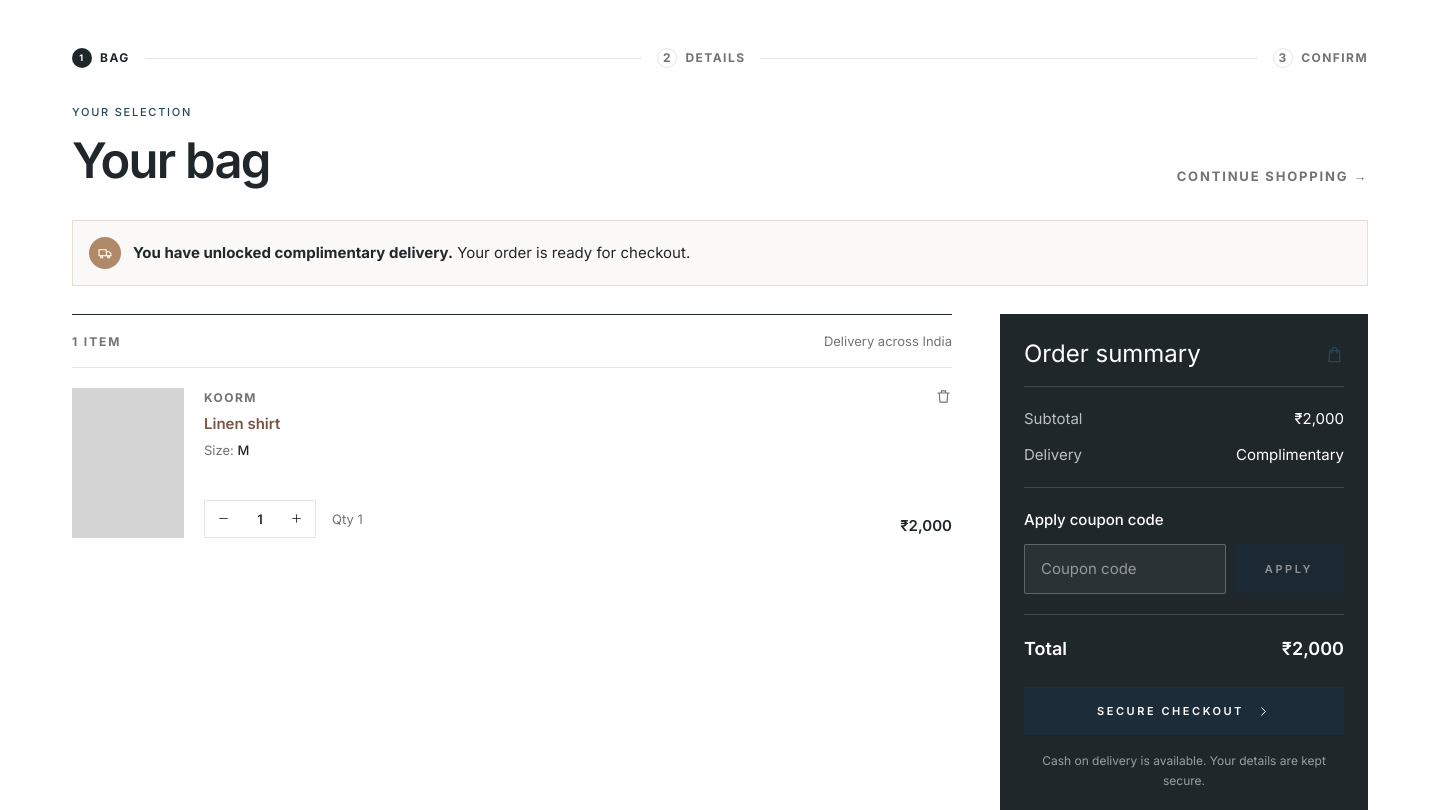
Test case: applies a normalized coupon, updates the total, and can remove the discount
The image size is (1440, 810).
Expected: the button "Apply" is disabled, x1=1234 y1=544 x2=1344 y2=594
Type " save20 " into the field labelled "Apply coupon code" at (1125, 569), box x1=1024 y1=544 x2=1226 y2=594
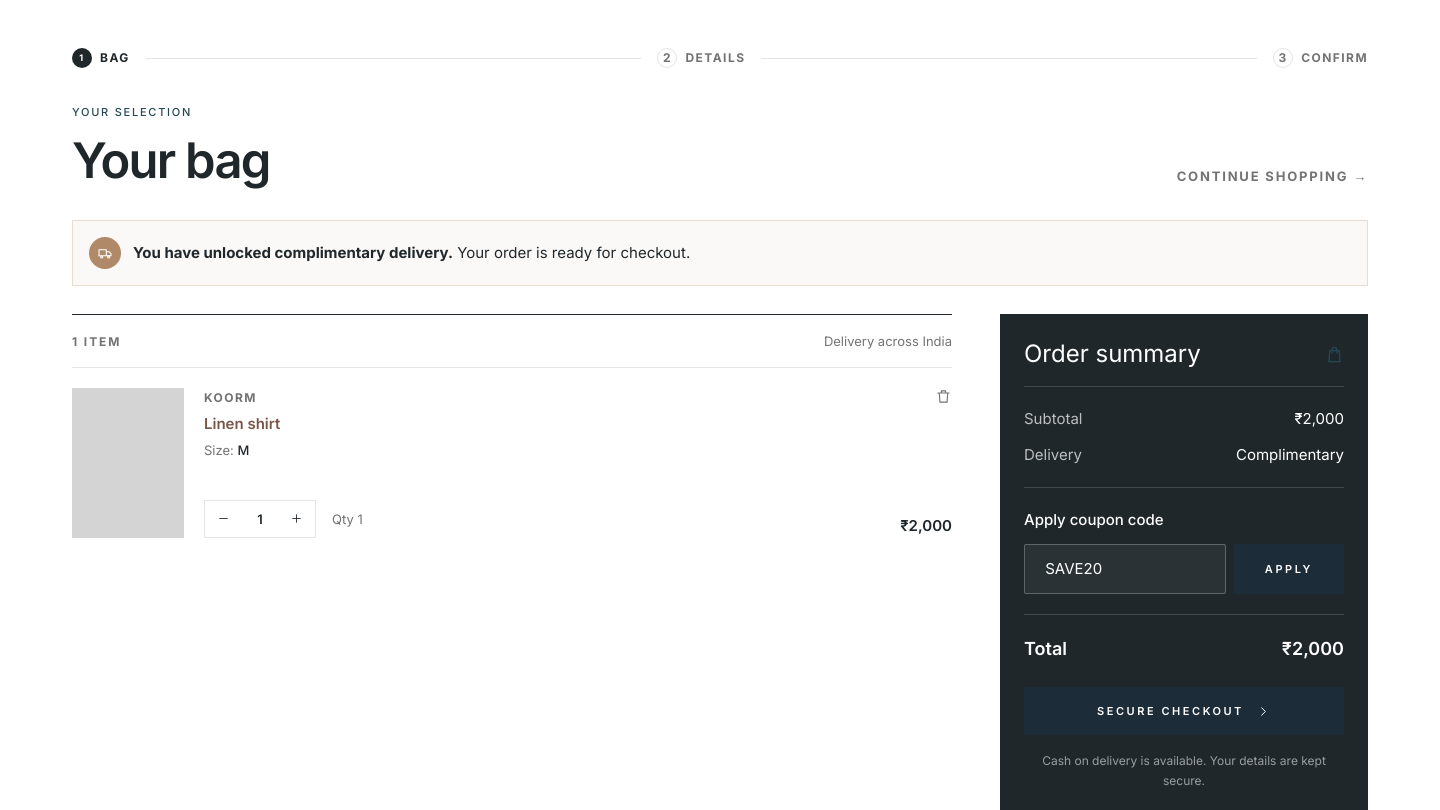
Submit the form "Apply coupon code", box x1=1024 y1=487 x2=1344 y2=614
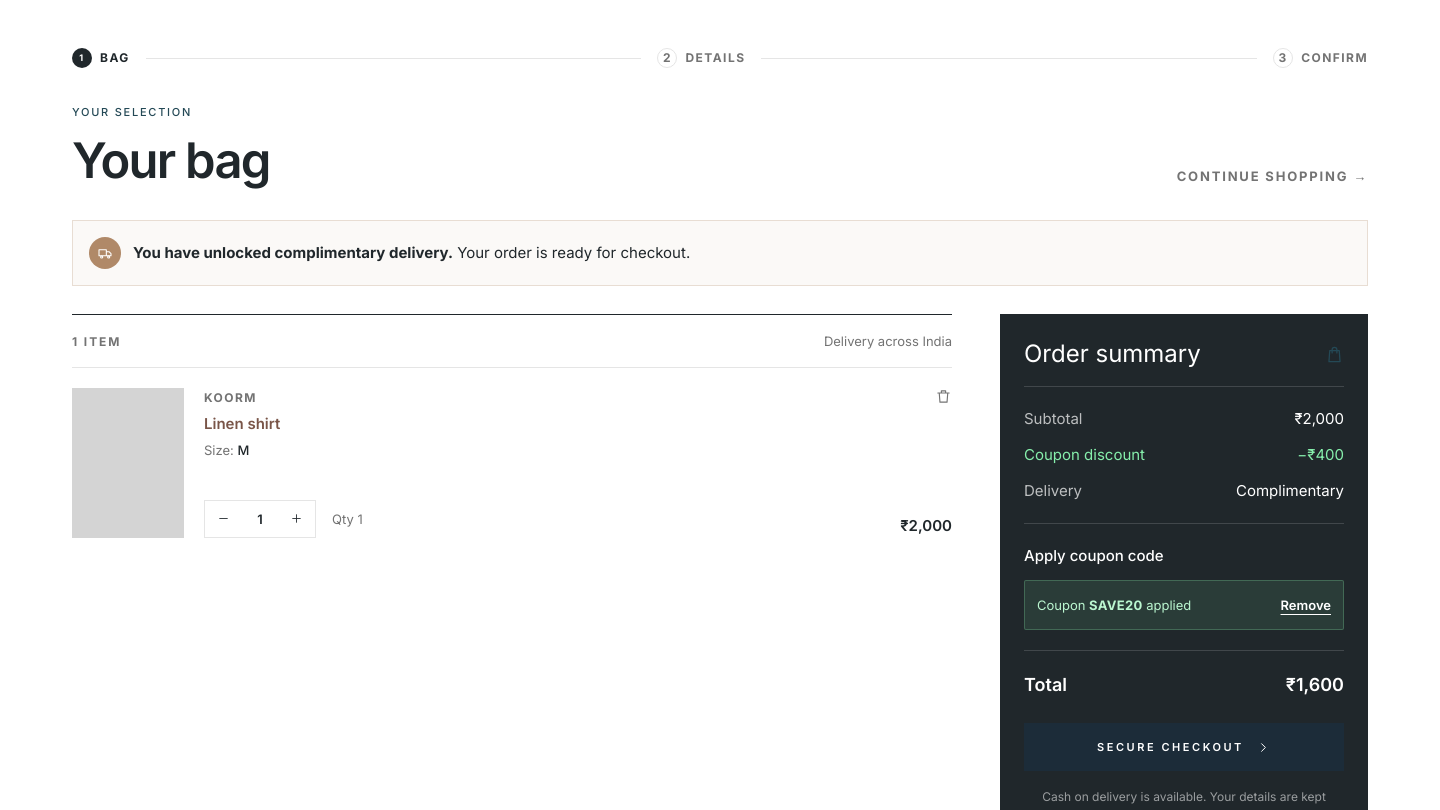
Expected: the message reads "Coupon SAVE20 applied", x1=1037 y1=595 x2=1191 y2=615
Expected: the text "−₹400" is shown, x1=1297 y1=443 x2=1344 y2=467
Expected: the text "₹1,600" is shown, x1=1286 y1=671 x2=1344 y2=699
Click the button "Remove" at (1306, 605), box x1=1280 y1=591 x2=1331 y2=619
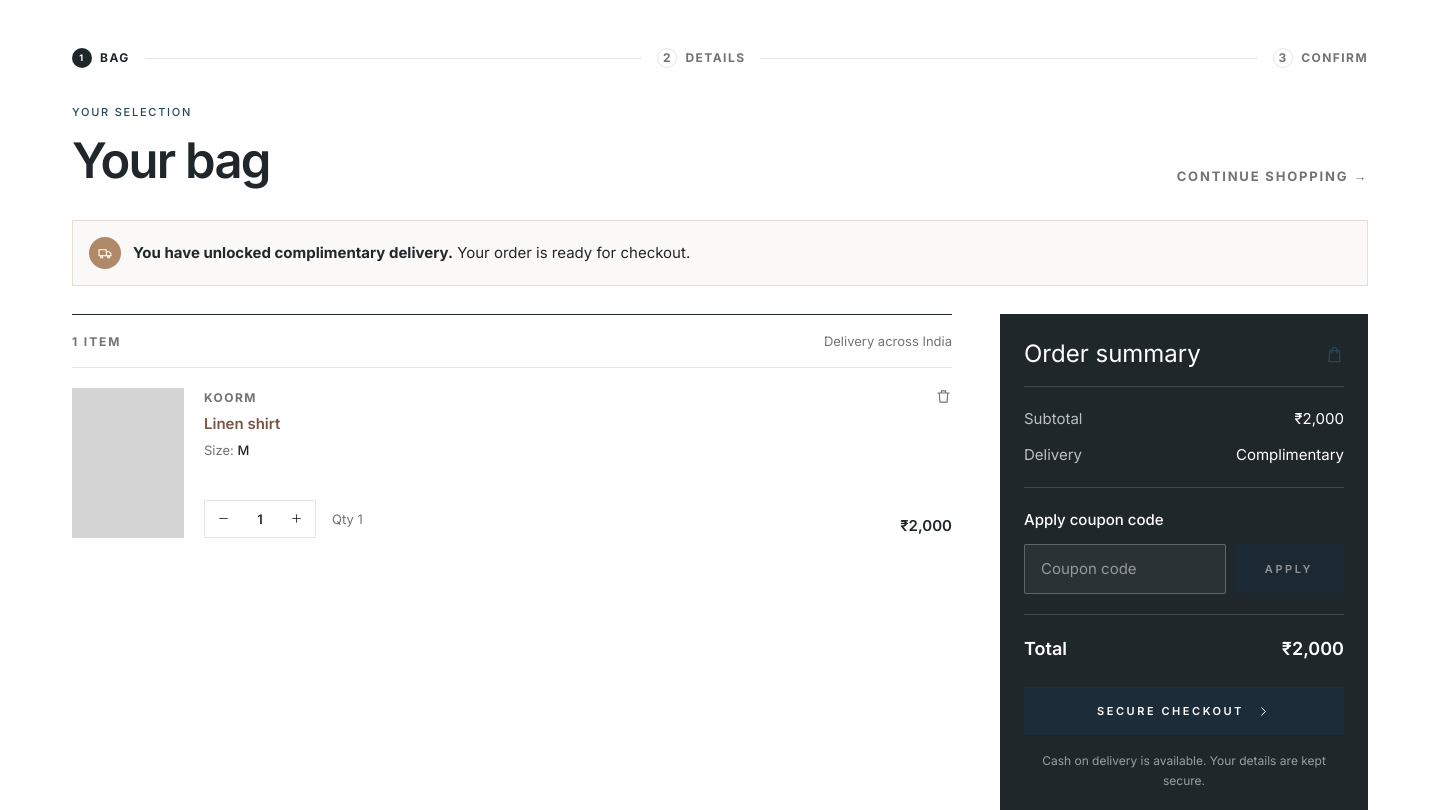
Expected: the text "₹2,000" is shown 2 times, x1=1294 y1=407 x2=1344 y2=431; x1=1282 y1=635 x2=1344 y2=663
Expected: the text "Coupon discount" is gone
Expected: the field labelled "Apply coupon code" is empty, x1=1024 y1=544 x2=1226 y2=594
